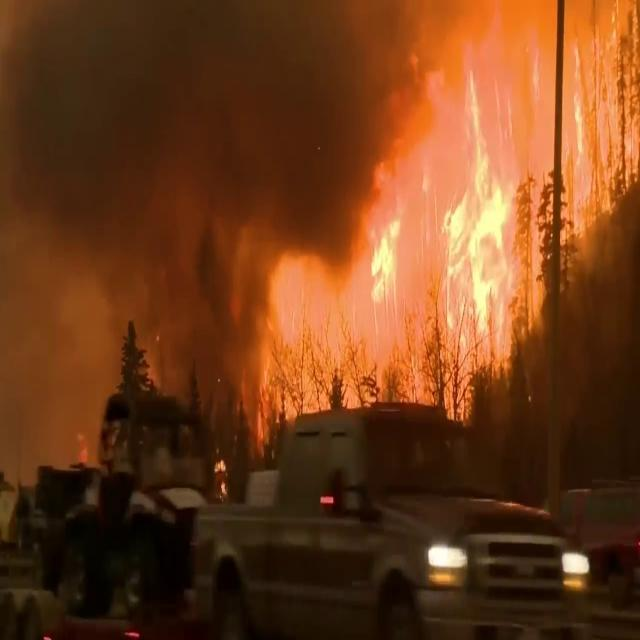Fire: (366, 4, 640, 373)
Smoke: (0, 0, 385, 401)
